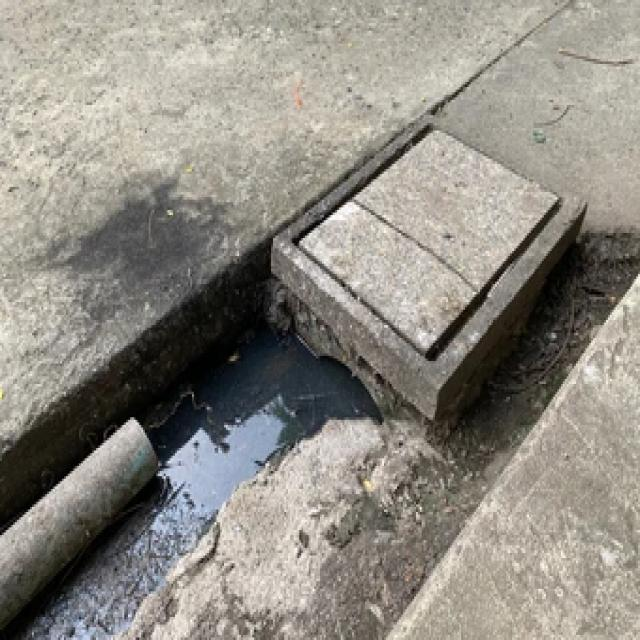Breeding Place: (0, 288, 395, 637)
